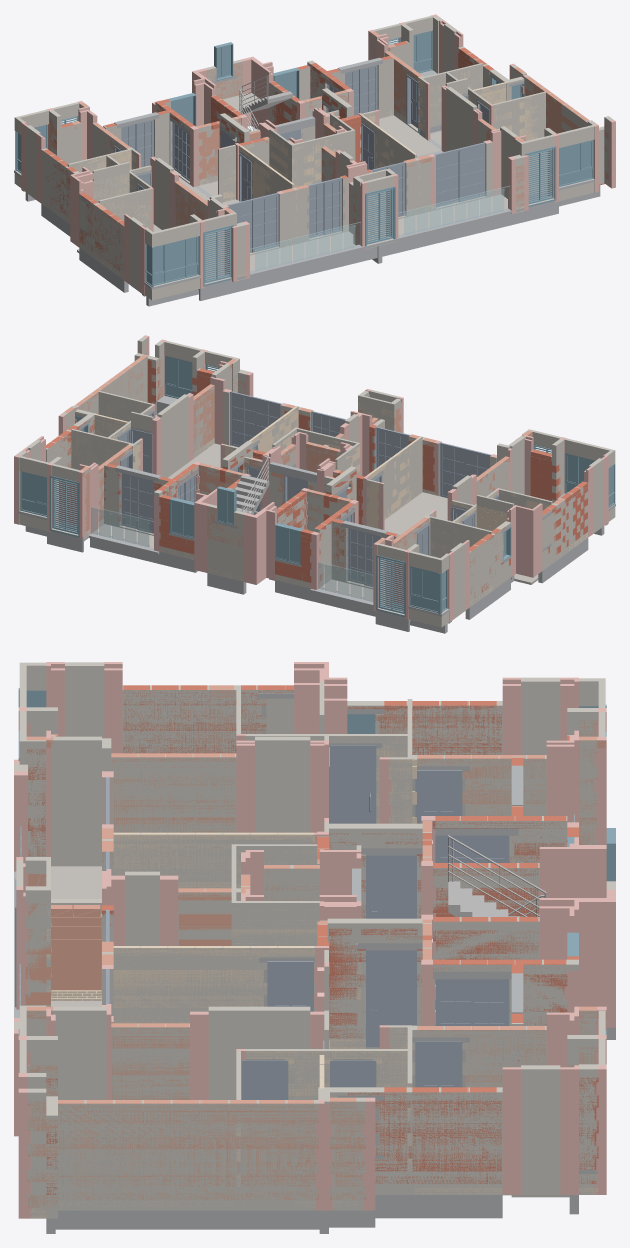
The picture shows the model from 3 angles, top to bottom: view 1: azimuth 30°, elevation 25°; view 2: azimuth 150°, elevation 25°; view 3: azimuth 270°, elevation 25°; orthographic projection. The views are drawn at different scales.
Visible parts, largest first — view 1: C_Q, C_Z.001, C_M, C_W, C_L, C_QC__T200, C_QC__T100, C_B, C_QC__T250, C_G, C_QT; view 2: C_Q, C_Z.001, C_W, C_M, C_QC__T250, C_L, C_QC__T200, C_QC__T100, C_B, C_G, C_QT; view 3: C_Q, C_Z.001, C_QC__T200, C_QC__T250, C_M, C_QC__T100, C_L, C_QT, C_W, C_B.
Boxes of the visible parts, box(x1,y1,x2,y2) form: C_Q: box(14, 15, 612, 300); C_Z.001: box(21, 14, 615, 295); C_M: box(114, 65, 489, 252); C_W: box(15, 30, 593, 287); C_L: box(14, 57, 600, 306); C_QC__T200: box(49, 31, 609, 241); C_QC__T100: box(42, 67, 608, 280); C_B: box(26, 93, 507, 293); C_QC__T250: box(43, 41, 604, 271); C_G: box(250, 186, 509, 271); C_QT: box(87, 70, 479, 228); C_Q: box(17, 337, 615, 627); C_Z.001: box(14, 335, 608, 622); C_W: box(20, 355, 615, 617); C_M: box(118, 391, 498, 586); C_QC__T250: box(26, 360, 587, 603); C_L: box(18, 396, 615, 633); C_QC__T200: box(55, 344, 564, 596); C_QC__T100: box(17, 394, 587, 605); C_B: box(93, 415, 602, 620); C_G: box(91, 506, 372, 601); C_QT: box(119, 420, 503, 569); C_Q: box(14, 662, 615, 1218); C_Z.001: box(14, 662, 615, 1218); C_QC__T200: box(25, 685, 606, 1207); C_QC__T250: box(26, 685, 598, 1194); C_M: box(106, 745, 509, 1099); C_QC__T100: box(30, 736, 598, 1218); C_L: box(14, 693, 615, 1233); C_QT: box(261, 705, 546, 1145); C_W: box(15, 688, 615, 1035); C_B: box(51, 866, 569, 1197).
Size of the model in its own units: 22 by 4.75 by 13.
